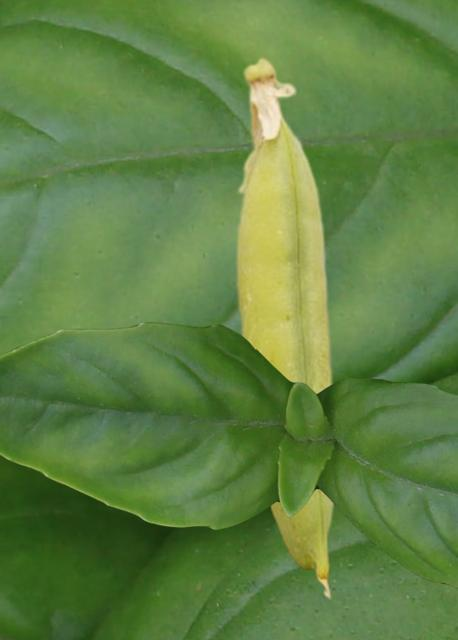pea: (235, 56, 337, 598)
